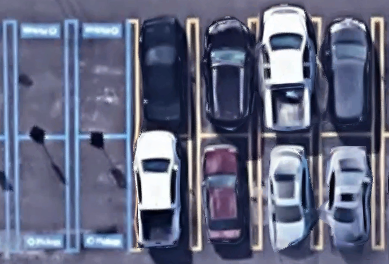Occupied: (258, 19, 311, 135), (320, 19, 373, 135), (136, 136, 190, 249), (320, 135, 374, 248), (198, 18, 250, 135), (258, 136, 312, 248), (137, 21, 189, 136), (198, 135, 250, 249)
Vacant: (15, 21, 68, 138), (76, 20, 128, 137), (76, 138, 129, 252), (15, 138, 67, 252)
